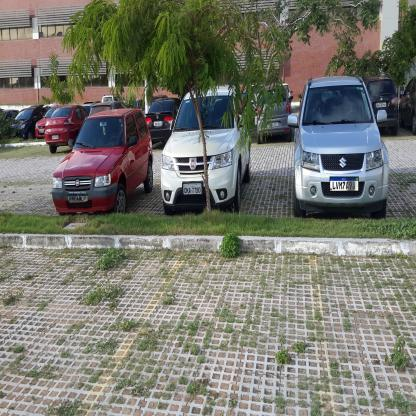PlacaM: (329, 176, 358, 192), (67, 193, 88, 202)
